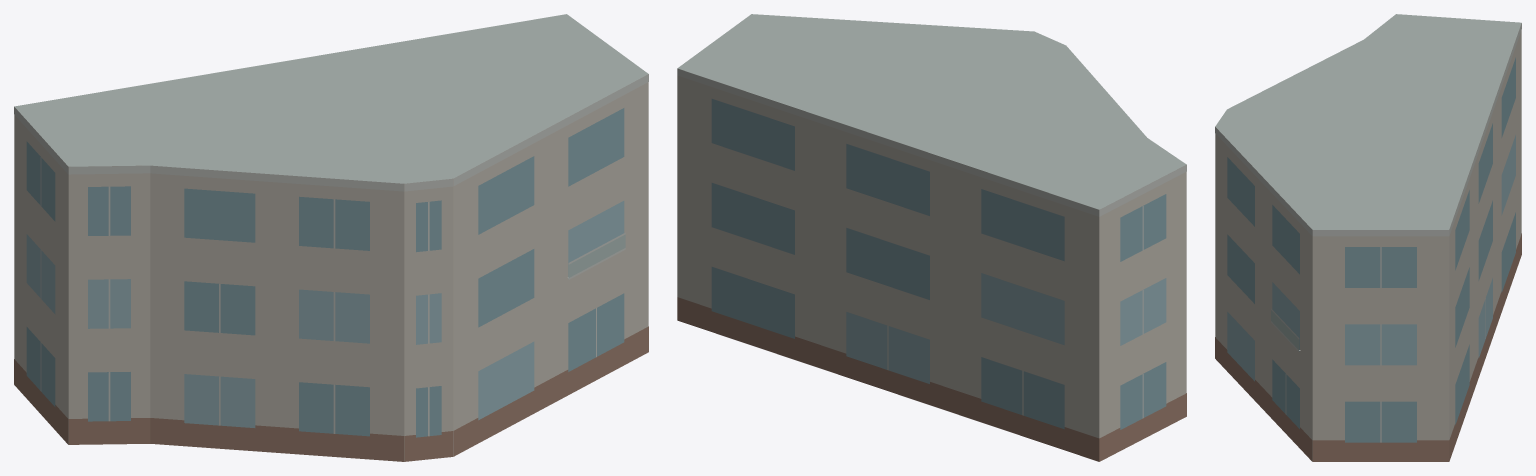
File: survey-upis-32496801.glb
3 views of the same model, side by side, from view 1: azimuth 30°, elevation 25°; view 2: azimuth 150°, elevation 25°; view 3: azimuth 270°, elevation 25° (orthographic). The views are drawn at different scales.
Parts seen in each view (by area): view 1: survey-upis-32496801.tmp; view 2: survey-upis-32496801.tmp; view 3: survey-upis-32496801.tmp.
Boxes of the visible parts, bbox=[...] form: survey-upis-32496801.tmp: bbox=[14, 14, 648, 461]; survey-upis-32496801.tmp: bbox=[677, 14, 1186, 461]; survey-upis-32496801.tmp: bbox=[1215, 14, 1521, 461].
Bounding box in the file's own units: 17.37 × 8.7 × 10.43.
